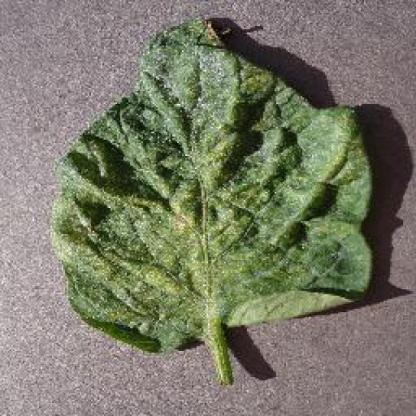Tomato_Spider_Mites: (59, 19, 372, 352)
